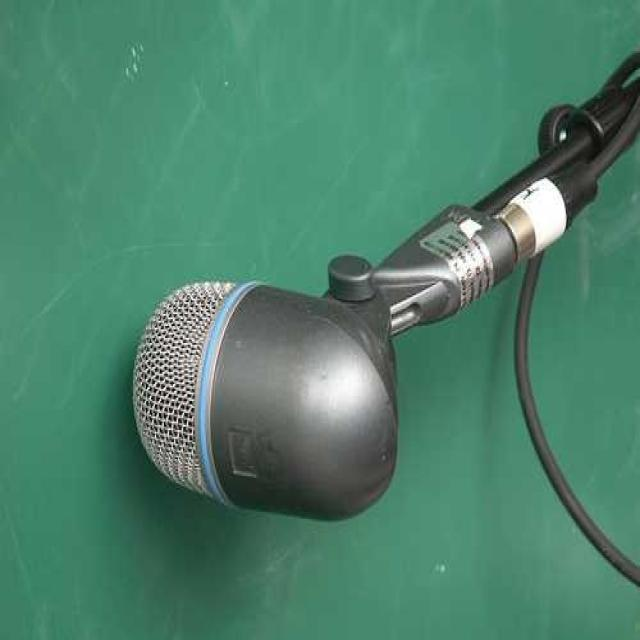microphone: (131, 277, 393, 518)
